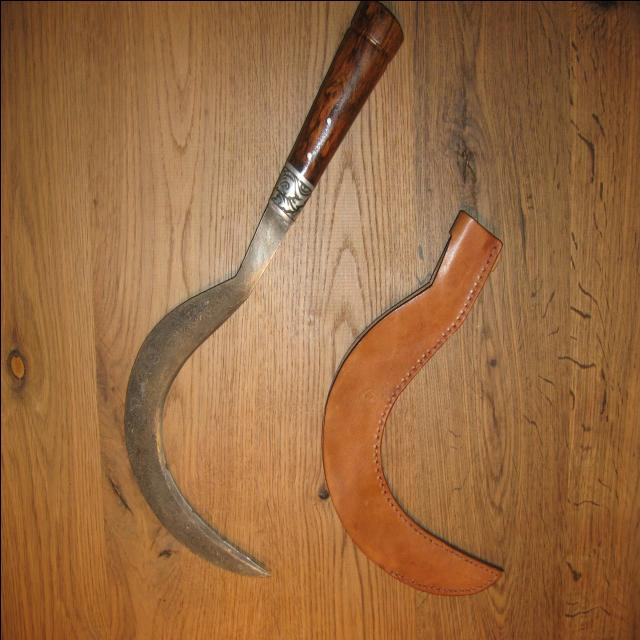Celurit: (125, 1, 402, 577)
